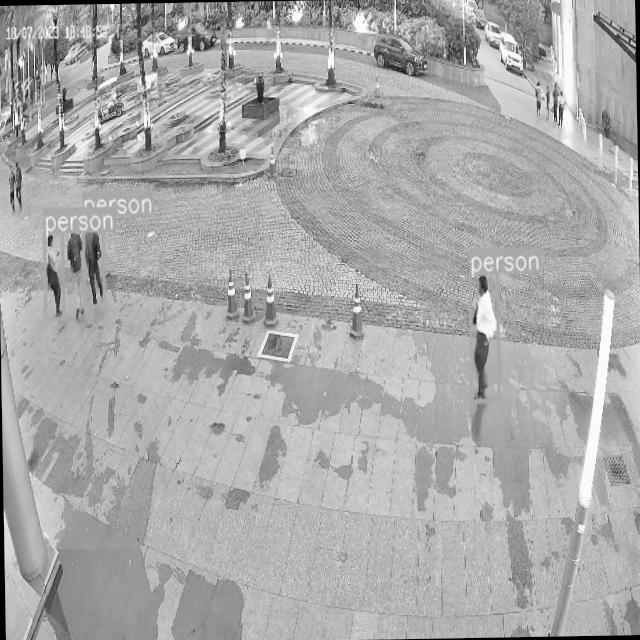person: (472, 267, 498, 400), (84, 223, 106, 320), (42, 231, 65, 320), (66, 230, 84, 326), (14, 160, 23, 208), (557, 91, 565, 128), (535, 78, 542, 114), (545, 85, 550, 117)
